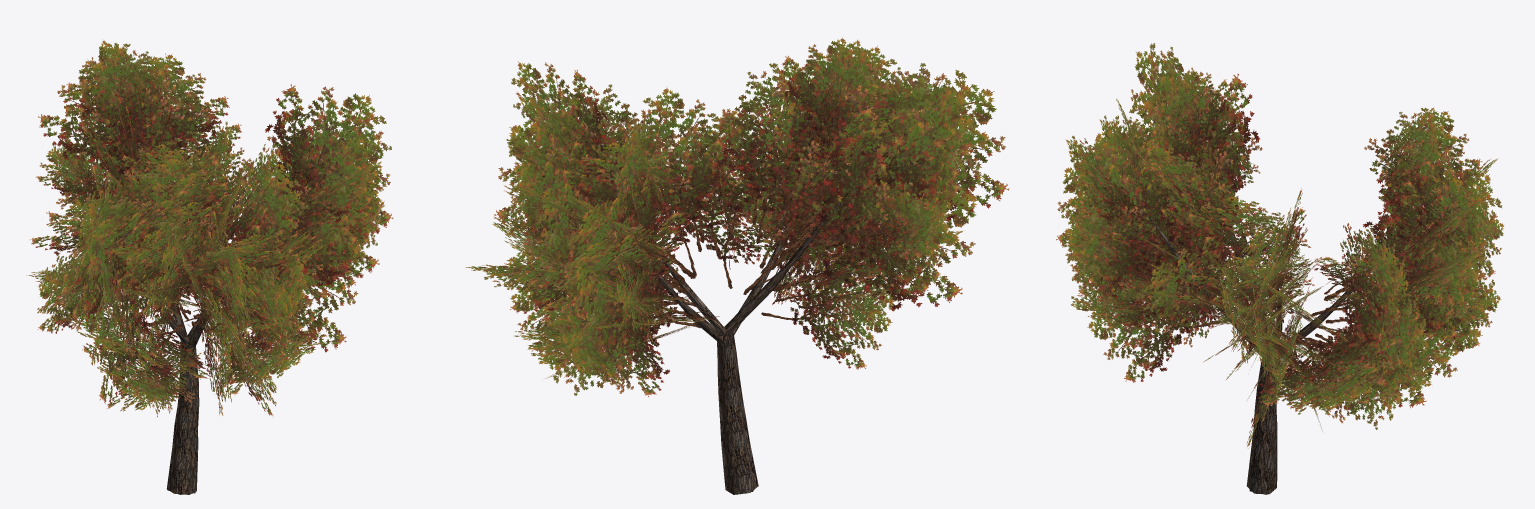
File: far.glb
3 renders of one model, left to right at view 1: azimuth 30°, elevation 25°; view 2: azimuth 150°, elevation 25°; view 3: azimuth 270°, elevation 25°, orthographic. The views are drawn at different scales.
Visible parts, largest first — view 1: lod1, lod2; view 2: lod1, lod2; view 3: lod1, lod2.
Part boxes in pixels (x1,y1,x2,y2): lod1: [26, 39, 384, 494]; lod2: [30, 59, 393, 494]; lod1: [466, 37, 960, 494]; lod2: [494, 45, 1009, 491]; lod1: [1063, 69, 1504, 494]; lod2: [1056, 43, 1503, 494].
Bounding box in the file's own units: 17.26 × 16.68 × 17.54.
2 materials, 2 textured.
